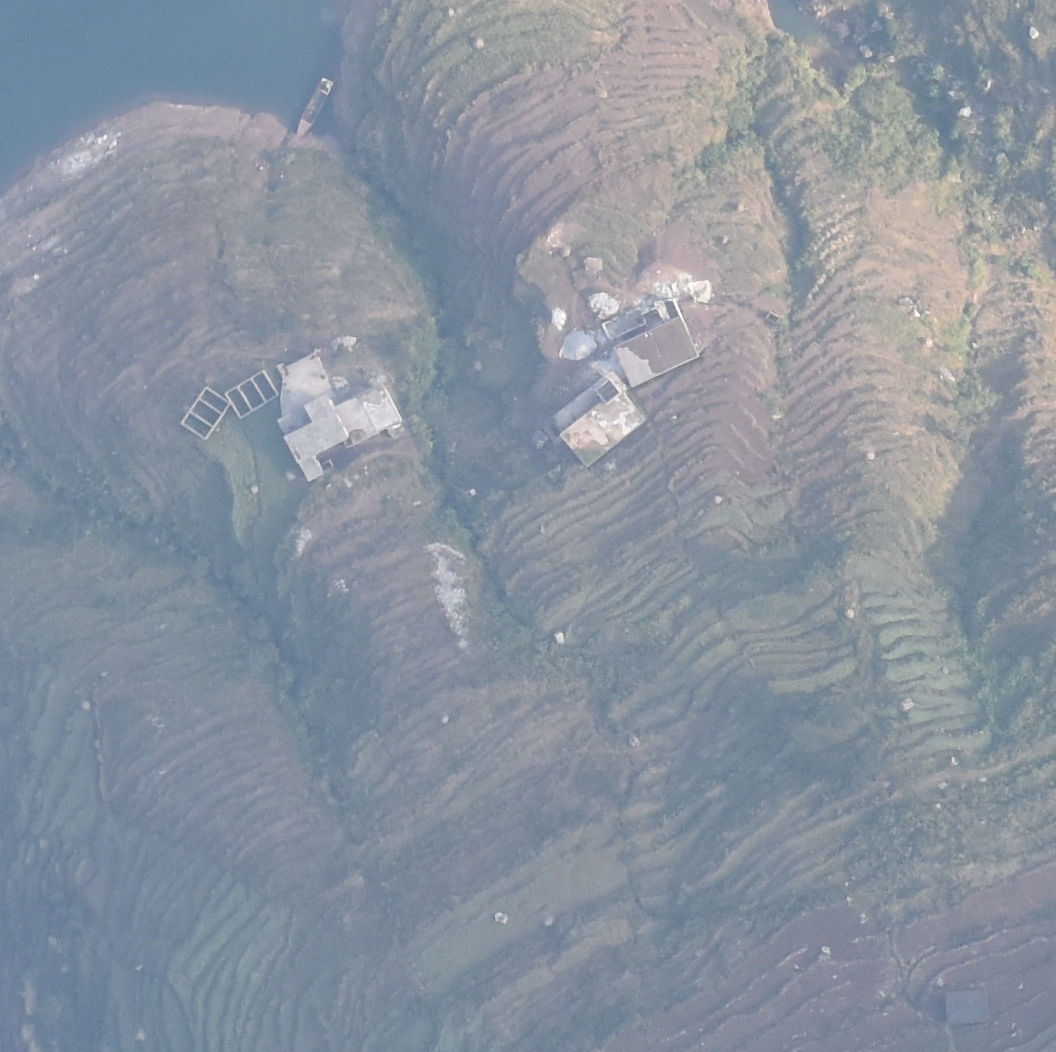building: (279, 352, 404, 482), (550, 373, 646, 470), (599, 297, 698, 390), (944, 987, 992, 1026)
ship: (294, 76, 335, 140)
